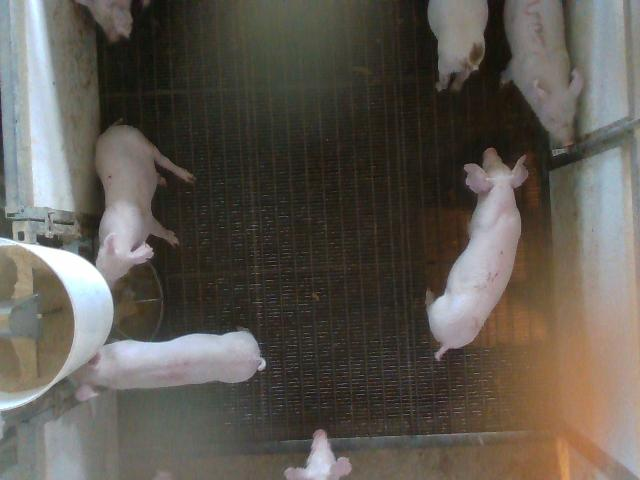pig-3: (501, 0, 582, 148)
